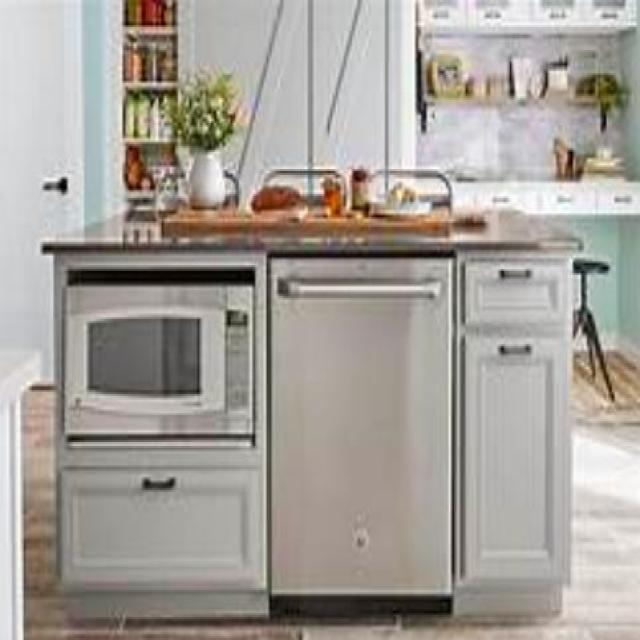dishwasher: (266, 250, 452, 600)
